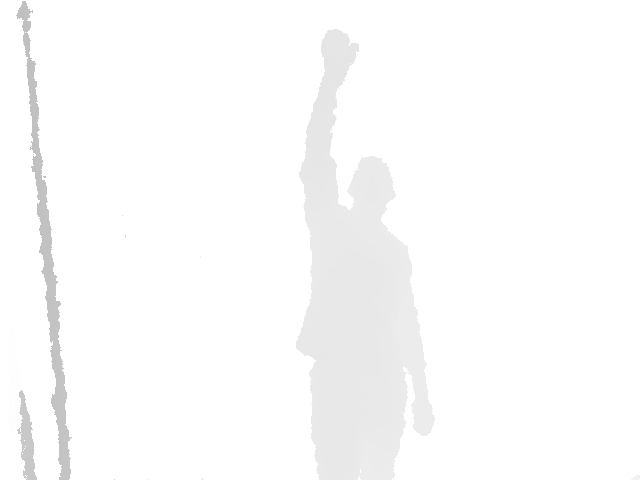hand: (319, 28, 361, 76)
hand_down: (410, 399, 435, 437)
head: (347, 156, 395, 218)
person: (296, 27, 436, 480)
